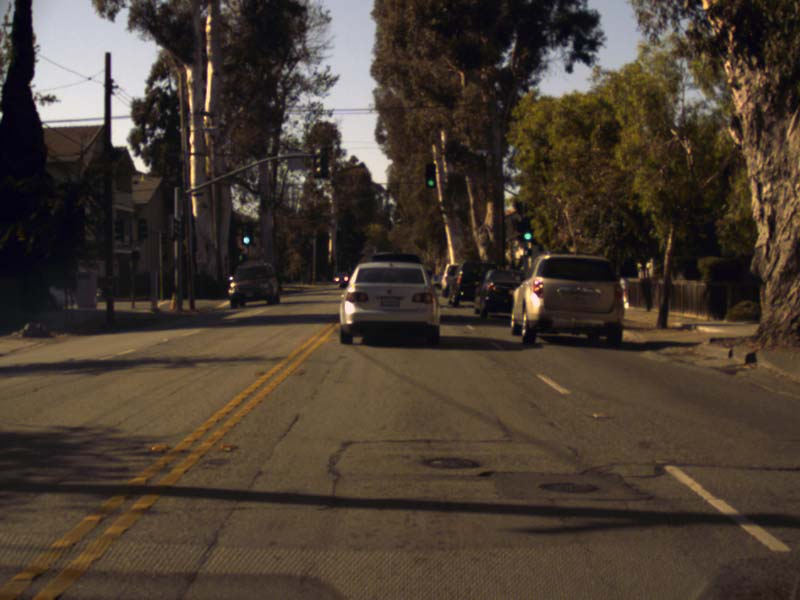Green: (520, 216, 532, 241), (425, 163, 435, 187), (241, 224, 252, 244)
